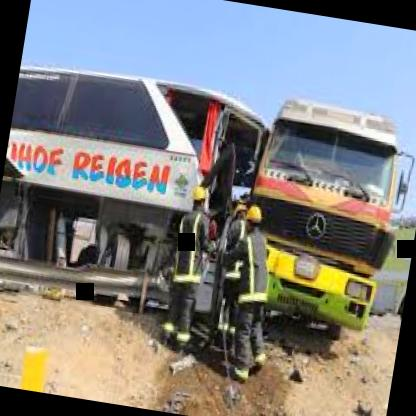accident: (51, 72, 397, 330)
